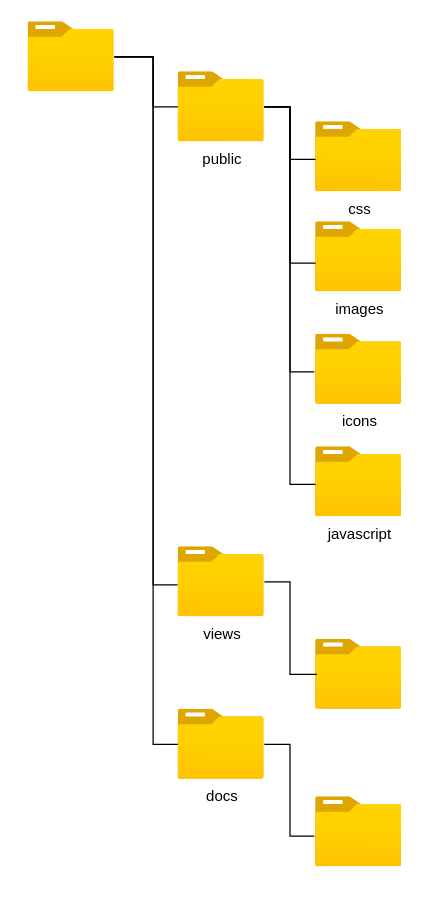
Image size: 423x914. Some labels were removed from this diagram. The centre of each missing label's shape, as x and y in pixels:
"layouts" belongs at (x=358, y=674).
"pictures" belongs at (x=358, y=831).
"WebAuto (projektin juuri)" belongs at (x=71, y=56).
